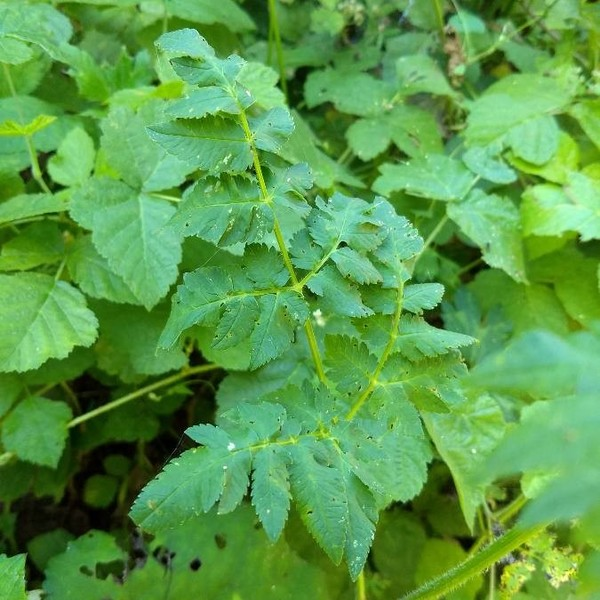obstacle: (35, 33, 538, 554)
